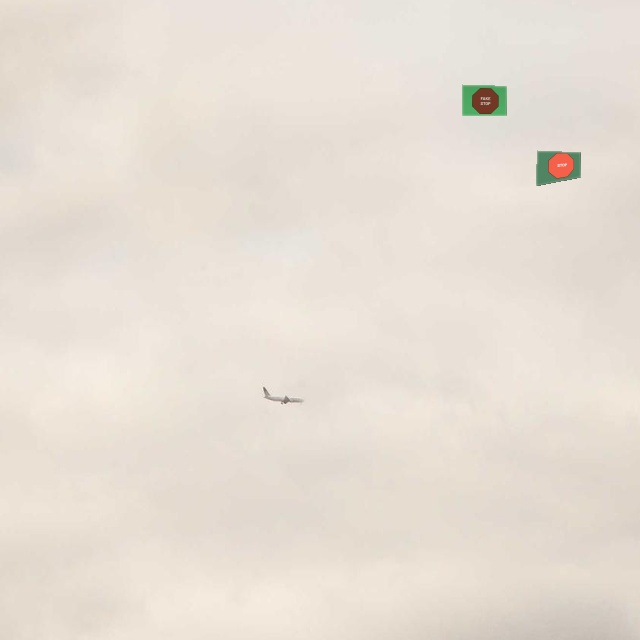FAKE_STOP: (472, 88, 499, 114)
STOP: (544, 150, 577, 180)
